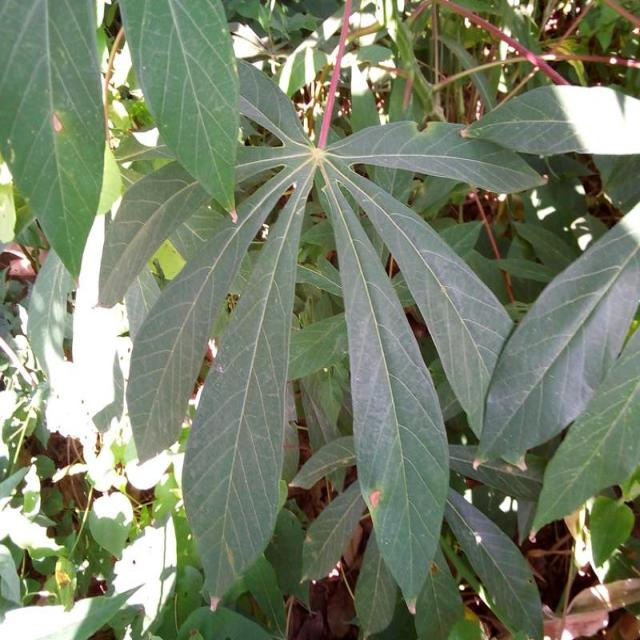cassava leaf: (318, 164, 452, 609), (181, 163, 315, 604), (476, 200, 640, 470), (1, 0, 107, 282), (119, 0, 242, 222)
